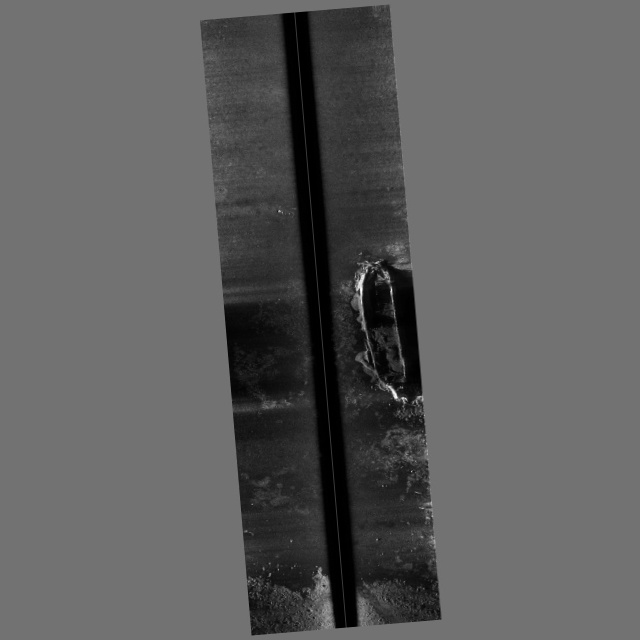Shipwreck: (350, 249, 408, 408)
